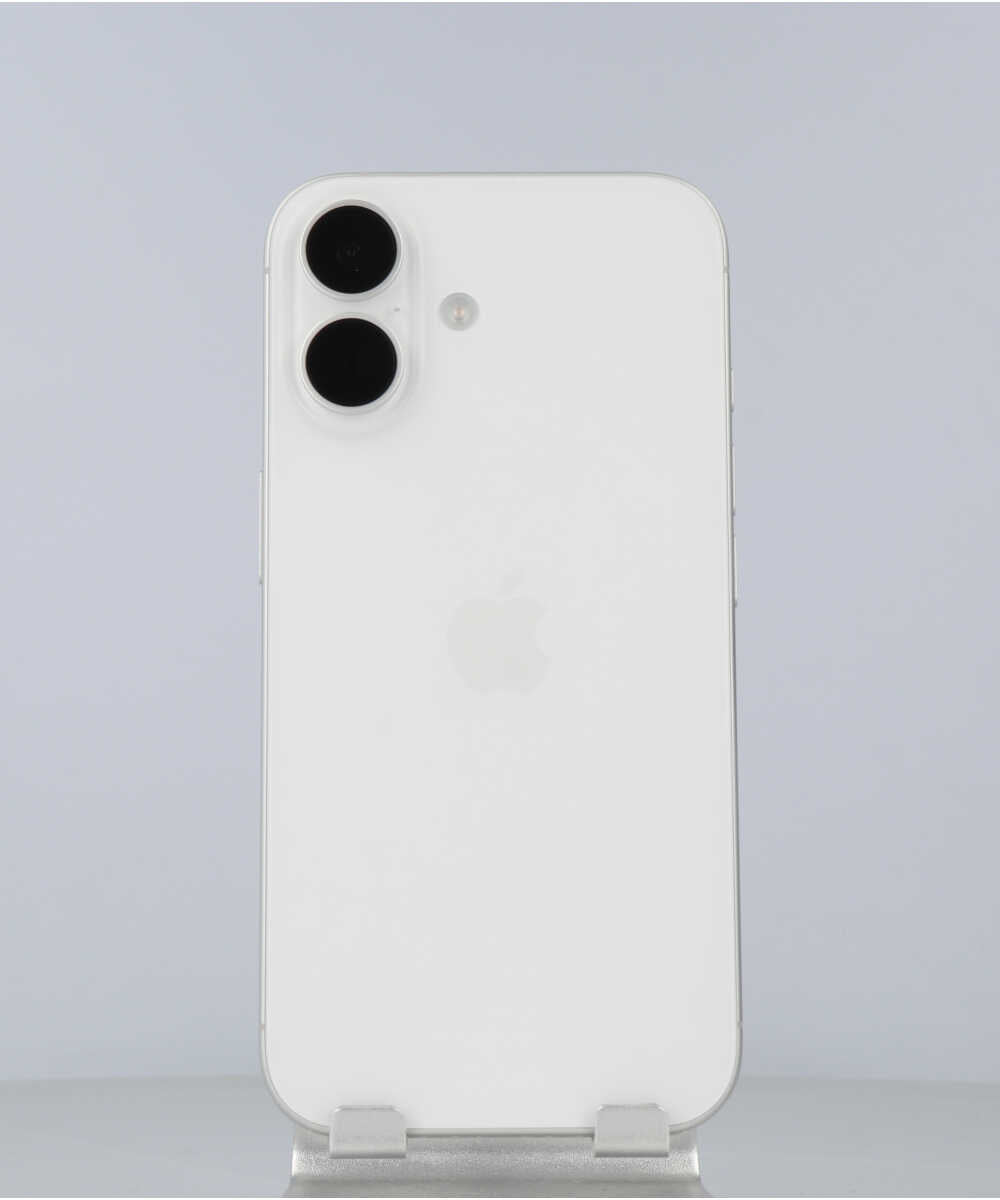iphone16_white: (213, 153, 778, 1156), (275, 182, 501, 432)
